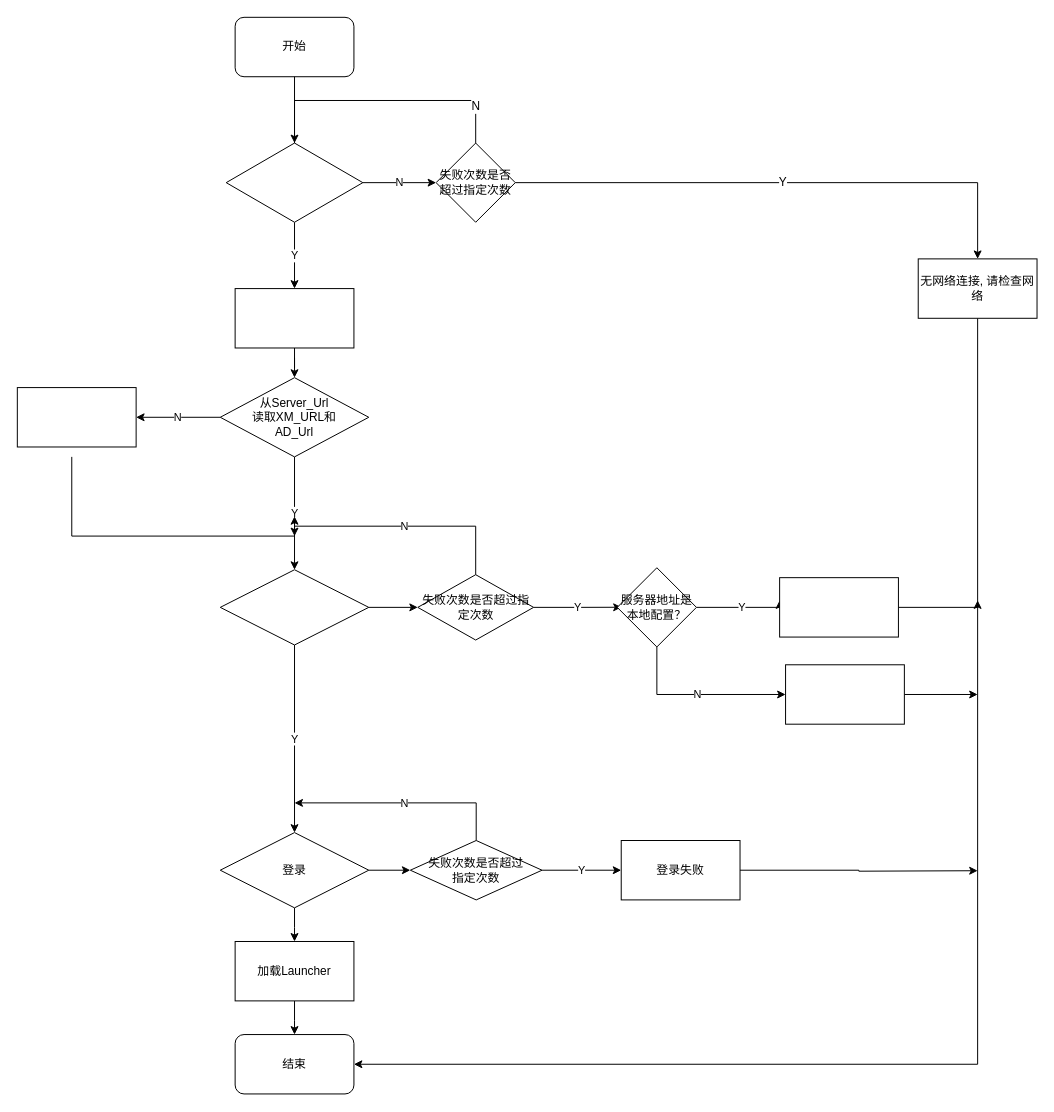
The diagram is 1054 pixels wide and 1112 high, and some of its shapes have lost their labels. Each missing label, with the box of its shape:
从本地配置读取 XM_URL AD_URL: (16, 387, 136, 447)
从本地配置读取 XM_URL AD_URL Server_Url: (234, 288, 354, 348)
显示非台基网络， 登录失败: (779, 577, 898, 637)
服务器无响应， 请稍候60秒: (785, 664, 904, 724)
检测网络: (225, 142, 363, 222)
访问服务器: (219, 569, 369, 645)
